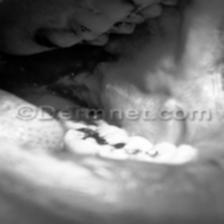Unclassified: (86, 80, 188, 110)
